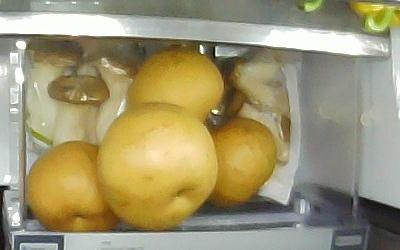pear: (96, 102, 217, 228), (27, 141, 122, 228), (128, 50, 224, 129), (202, 117, 276, 207)
